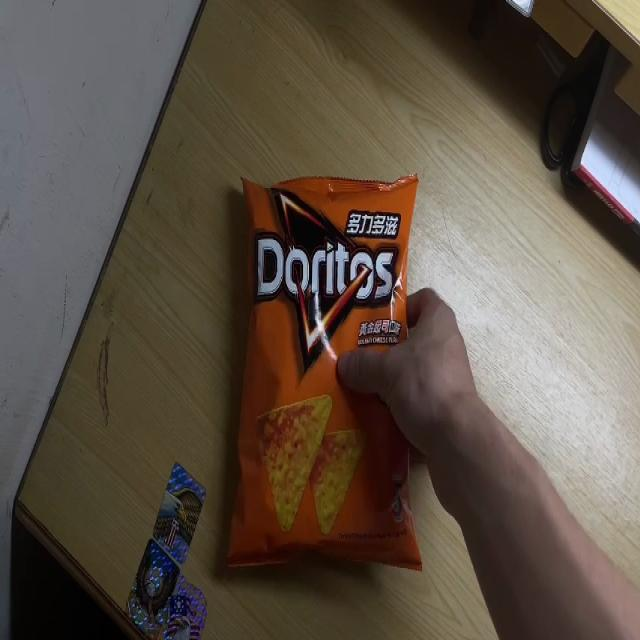Doritos: (225, 170, 423, 574)
